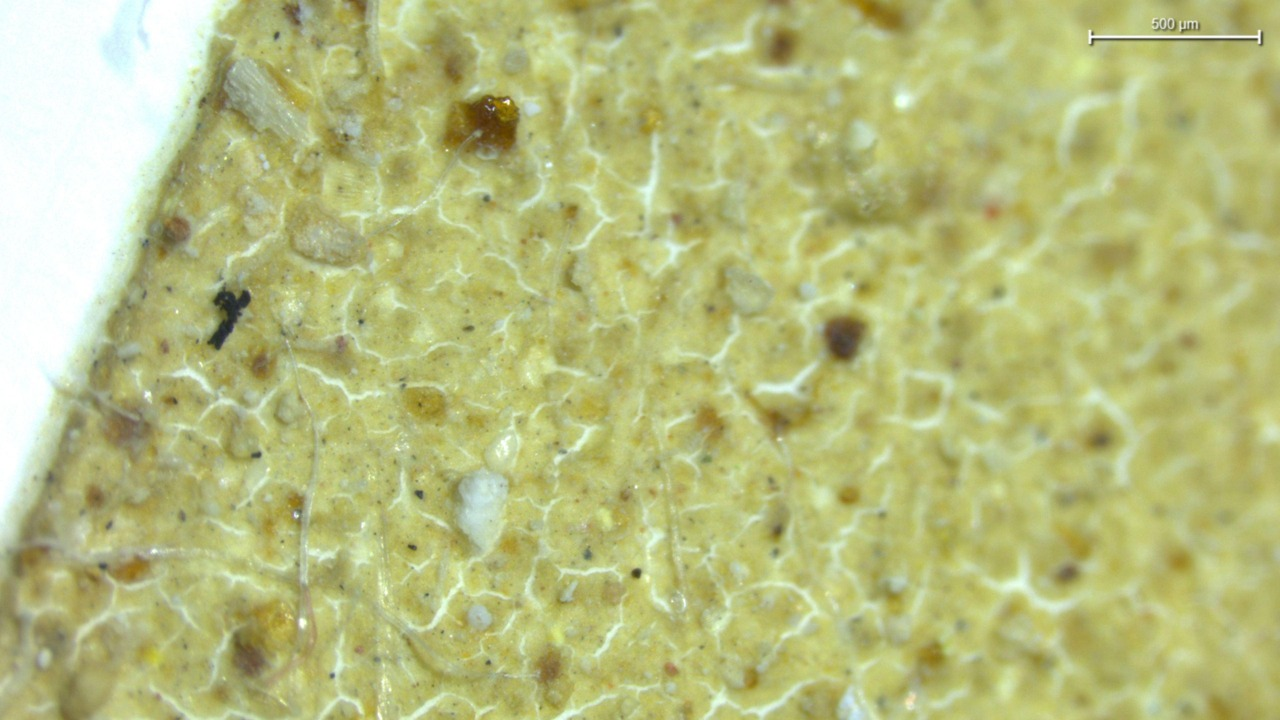microplastic_fragment: (456, 468, 508, 552)
